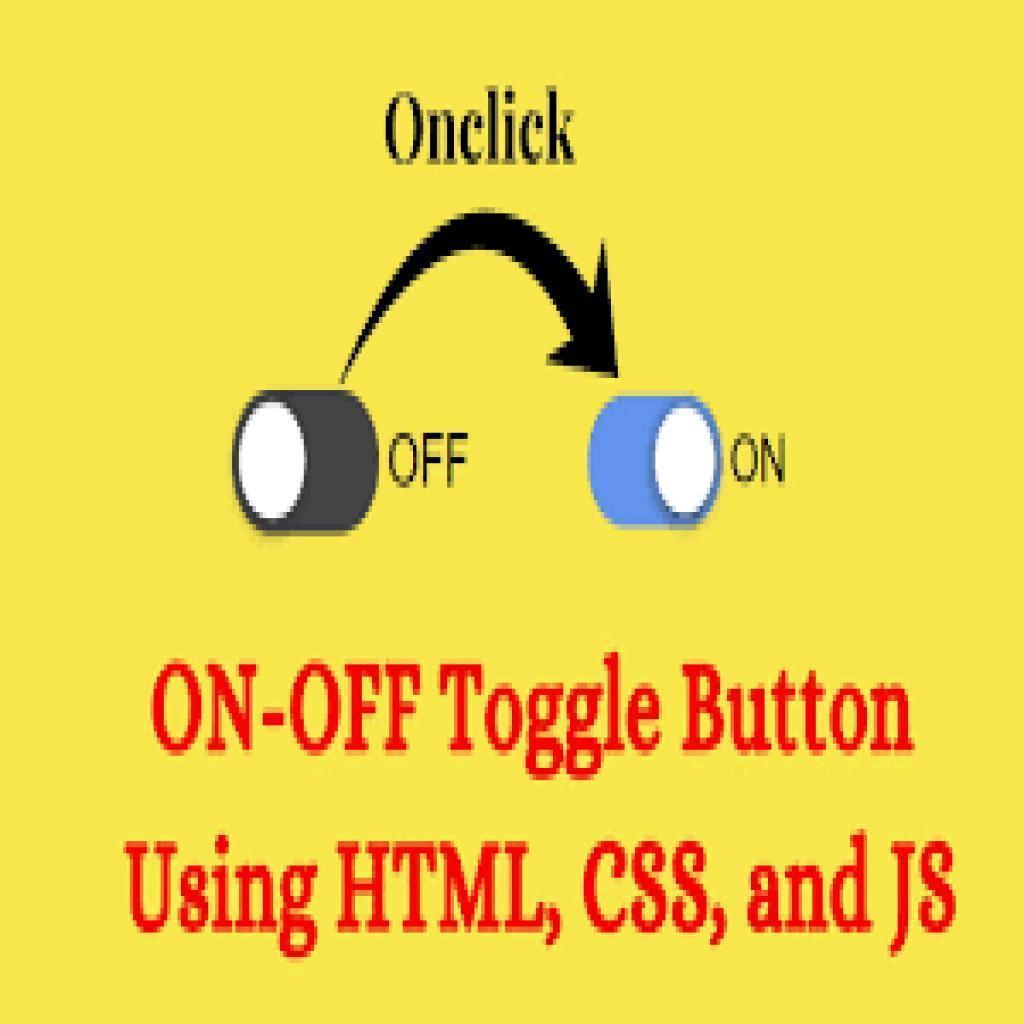switch: (234, 389, 377, 538), (584, 393, 721, 530)
